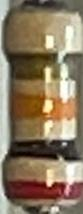Black: (5, 138, 82, 164)
Orange: (9, 95, 78, 122)
Red: (3, 177, 83, 203)
Side-Gold: (3, 52, 83, 84)
